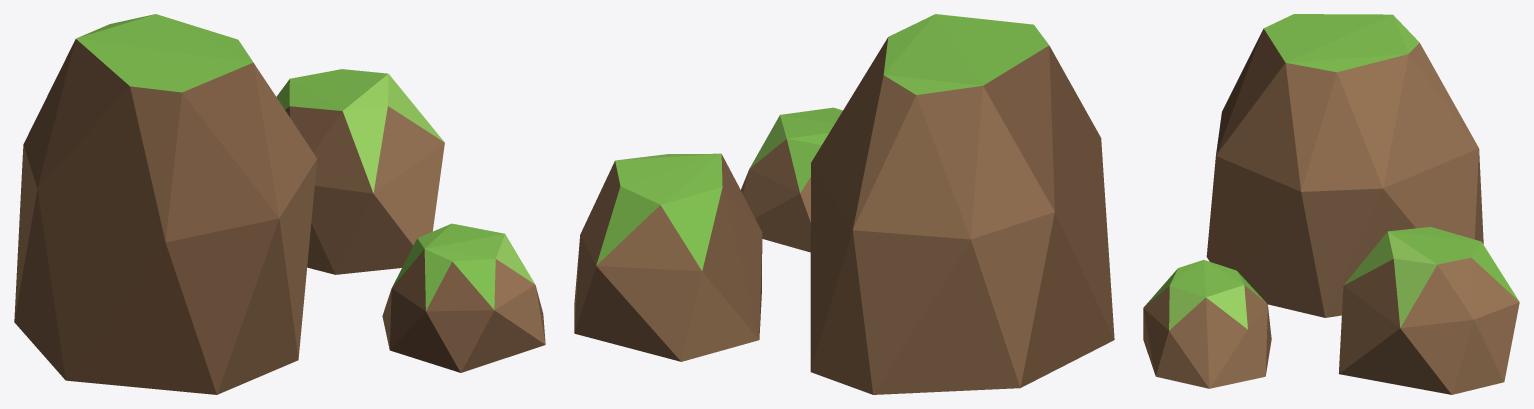
File: rock_largeD.glb
3 views of the same model, side by side, from view 1: azimuth 30°, elevation 25°; view 2: azimuth 150°, elevation 25°; view 3: azimuth 270°, elevation 25° (orthographic). The views are drawn at different scales.
Visible parts, largest first — view 1: rock_largeD; view 2: rock_largeD; view 3: rock_largeD.
Boxes of the visible parts, x1,y1,x2,y2 form: rock_largeD: [14, 14, 545, 394]; rock_largeD: [574, 14, 1114, 394]; rock_largeD: [1143, 14, 1519, 394].
Bounding box in the file's own units: 0.935 × 0.5641 × 0.8331.
Materials: 1 (1 with a texture image).
